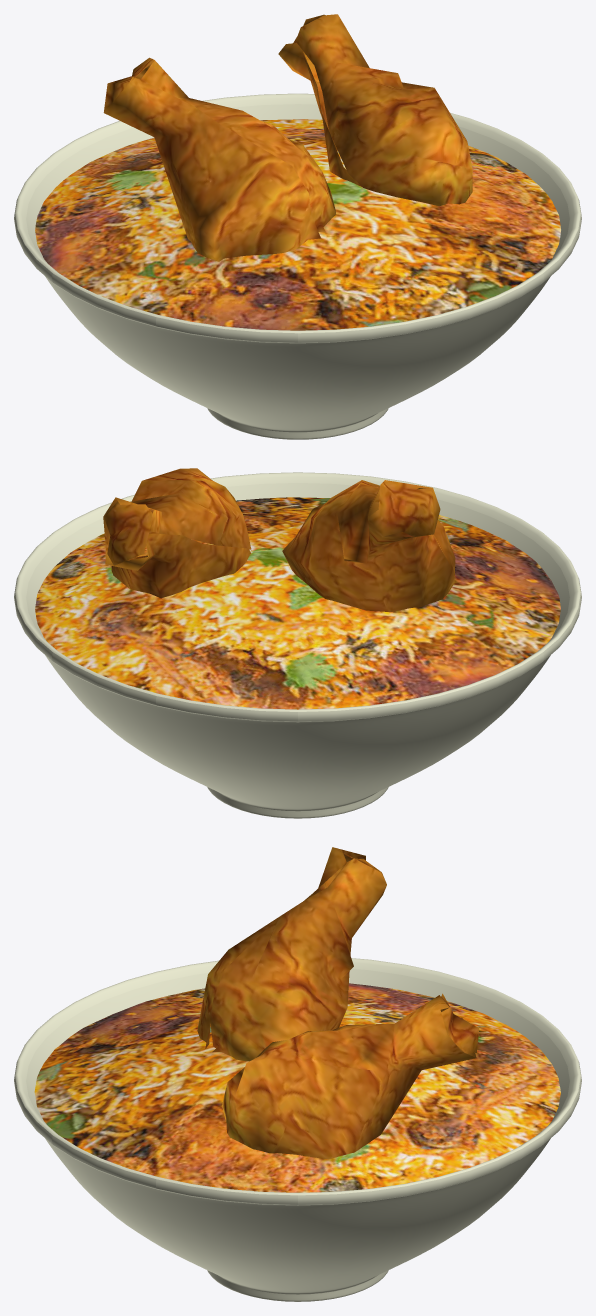
Rendered from biryani-bowl-transformed.glb.
3 views of the same model, one above another, from view 1: azimuth 30°, elevation 25°; view 2: azimuth 150°, elevation 25°; view 3: azimuth 270°, elevation 25° (orthographic).
Visible parts, largest first — view 1: pCylinder1, model_0.006; view 2: pCylinder1, model_0.006; view 3: pCylinder1, model_0.006.
Boxes of the visible parts, <box> form: pCylinder1: <box>14,93,581,439</box>; model_0.006: <box>103,14,472,261</box>; pCylinder1: <box>14,472,581,818</box>; model_0.006: <box>103,468,455,611</box>; pCylinder1: <box>14,958,581,1301</box>; model_0.006: <box>197,847,479,1158</box>.
Size of the model in its own units: 0.4528 by 0.3068 by 0.4528.
Materials: 3 (2 with a texture image).
